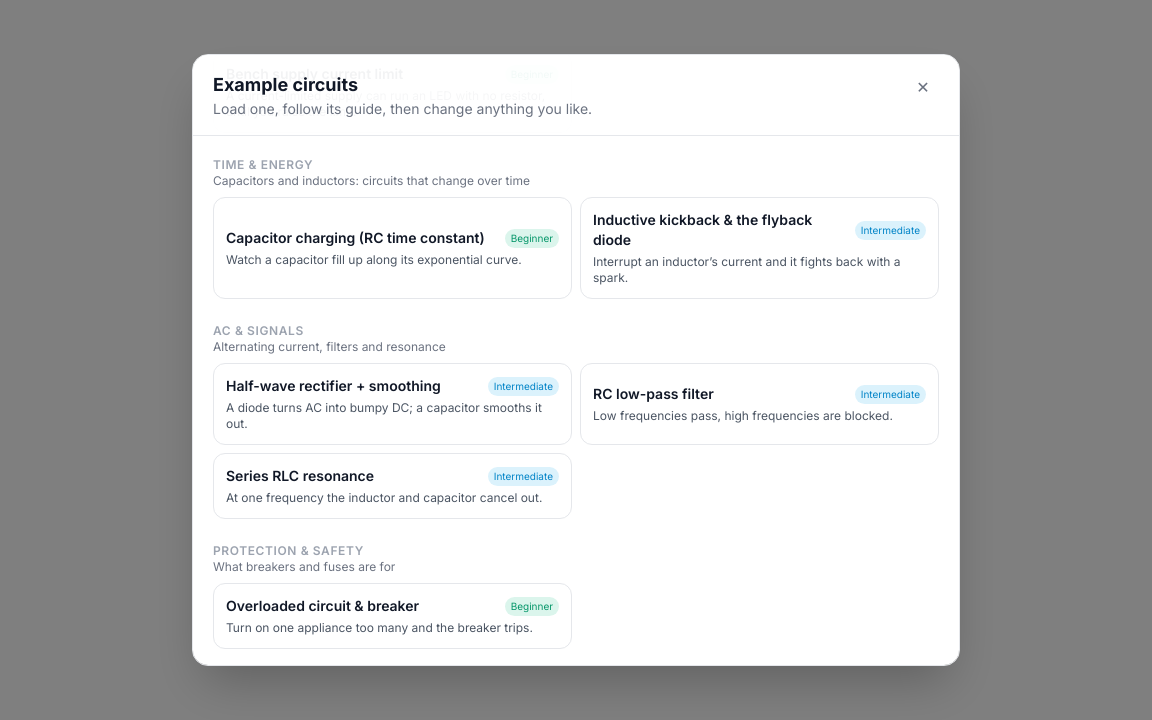
Test: examples gallery + guide › loads an example with its settings and walks its guide
The image size is (1152, 720).
(page scrolled)
What coordinates should you click on to do the following:
click the button with test id "example-half-wave-rectifier"
I would click on:
 (392, 404)
Its box is [213,363,572,445].
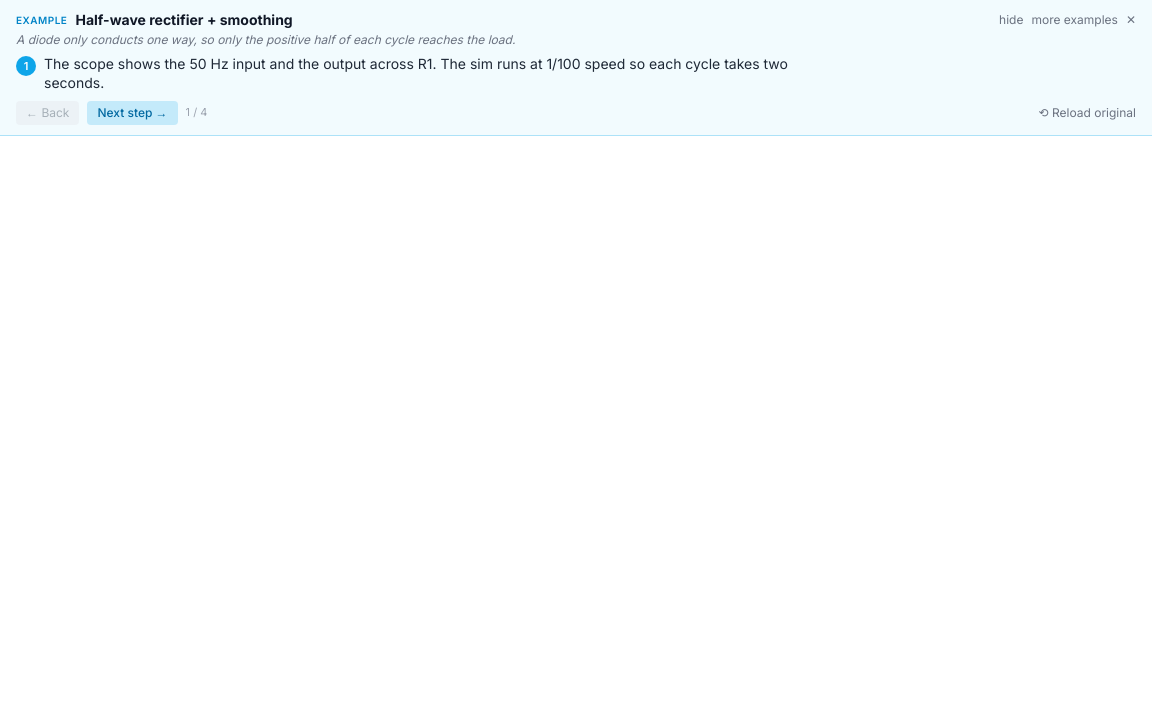
expect the text with test id "example-step" shows "1/100 speed": met, box [44,55,788,91]
What coordinates should you click on to do the following:
click the button "Next step →"
I would click on:
 (132, 112)
Its box is [87,100,178,124].
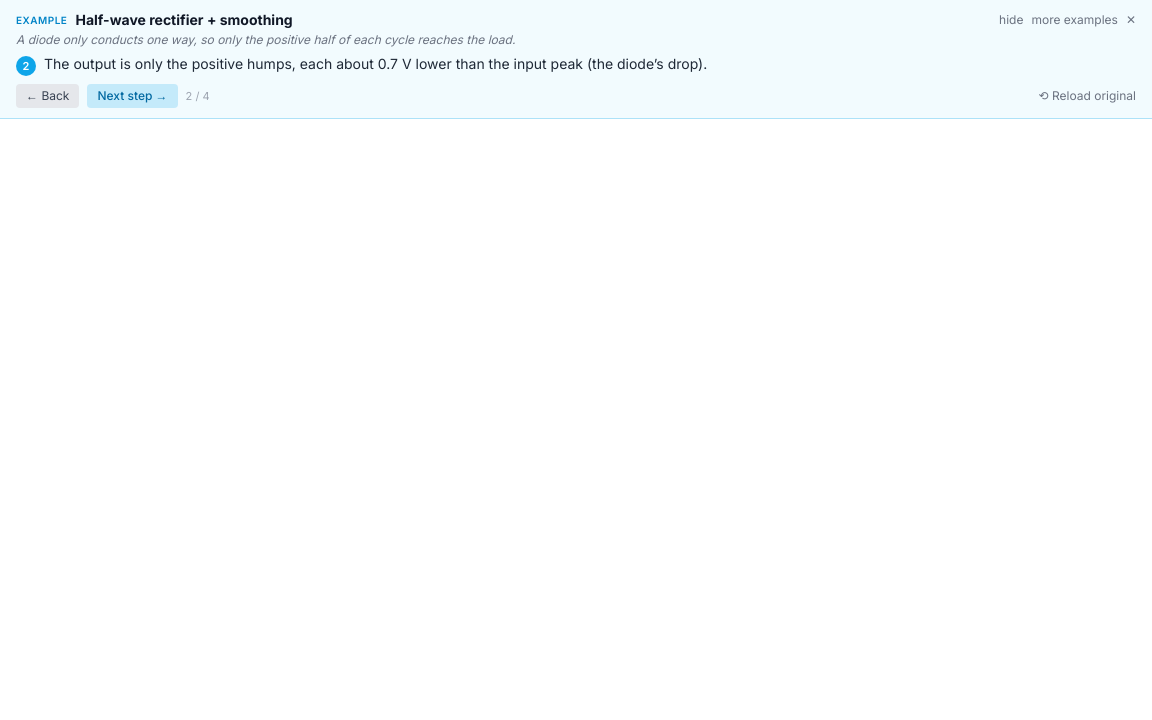
expect the text with test id "example-step" shows "positive humps": met, box [44,55,707,72]
